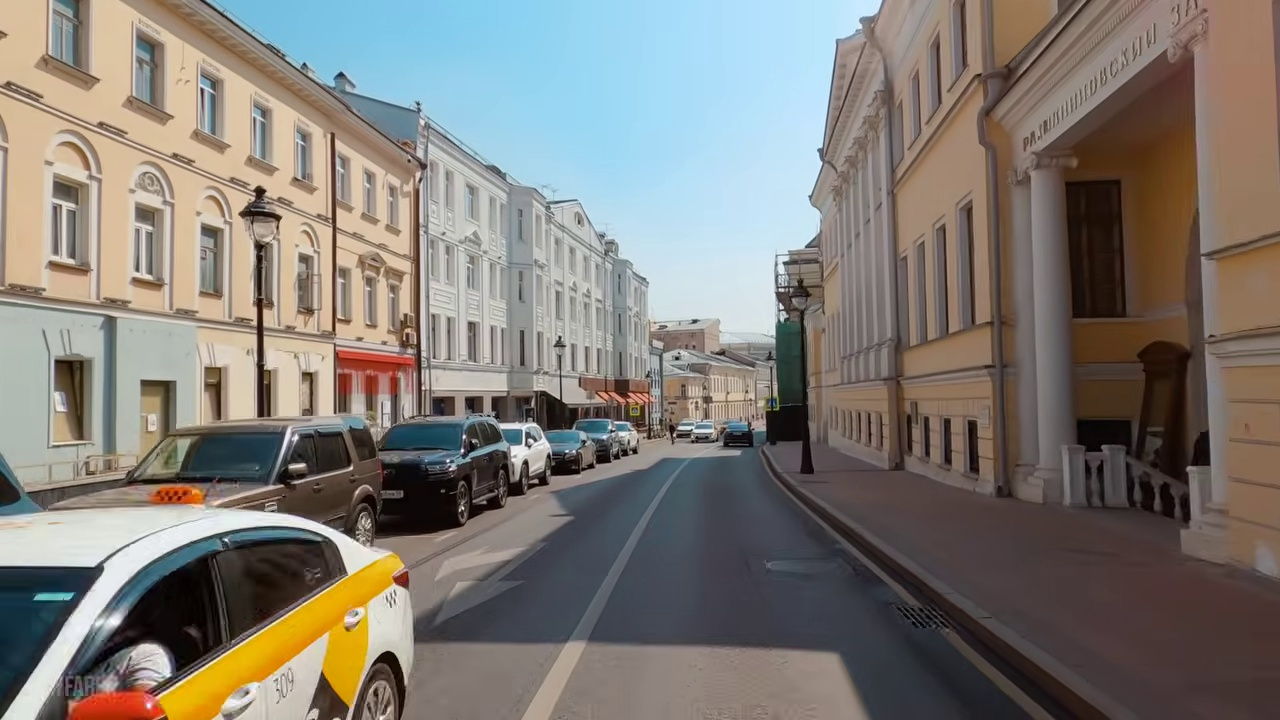apagada: (238, 196, 281, 252), (788, 287, 814, 316)
